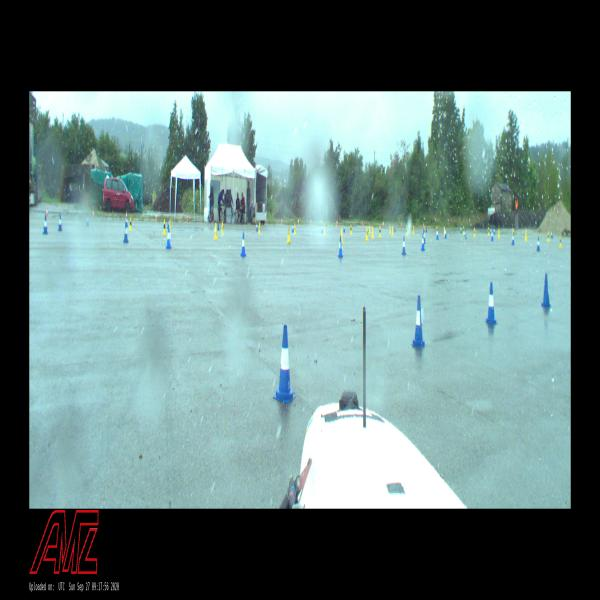blue_cone: (272, 325, 296, 403), (411, 295, 427, 348), (485, 282, 498, 325), (542, 273, 550, 307), (166, 225, 172, 249), (241, 232, 246, 256), (42, 214, 48, 234), (123, 222, 129, 242), (338, 236, 343, 258), (420, 234, 425, 251), (402, 236, 406, 254), (58, 214, 62, 231), (86, 212, 90, 226), (536, 238, 540, 250), (436, 228, 439, 240), (490, 230, 493, 241), (444, 228, 447, 238), (464, 229, 467, 239), (321, 224, 324, 233), (512, 233, 514, 245), (423, 232, 425, 244), (167, 217, 169, 228), (218, 219, 220, 230), (256, 221, 258, 231), (126, 217, 128, 227), (292, 222, 294, 232), (551, 230, 553, 238), (394, 224, 396, 232), (460, 226, 462, 234), (494, 227, 496, 235), (343, 225, 345, 232)
orange_cone: (187, 213, 190, 222), (125, 211, 128, 219), (155, 212, 157, 220), (281, 218, 283, 225), (336, 219, 338, 226), (310, 218, 312, 224), (298, 218, 299, 224)
unknown_cone: (362, 221, 363, 226)
yellow_cone: (214, 222, 218, 240), (286, 226, 290, 242), (163, 220, 166, 235), (365, 227, 368, 241), (371, 226, 374, 239), (221, 221, 224, 234), (559, 236, 562, 247), (258, 223, 261, 234), (341, 228, 343, 244), (473, 227, 476, 237), (130, 217, 132, 230), (170, 218, 172, 231), (368, 225, 371, 233), (548, 231, 550, 242), (294, 223, 296, 234), (350, 224, 352, 234), (379, 226, 381, 236), (324, 225, 326, 235), (525, 230, 527, 240), (498, 228, 500, 238), (391, 226, 393, 236), (406, 226, 408, 236), (443, 227, 445, 236), (488, 227, 490, 235), (412, 225, 414, 233), (389, 225, 391, 233), (512, 227, 513, 237), (436, 225, 437, 234), (463, 226, 464, 234)
